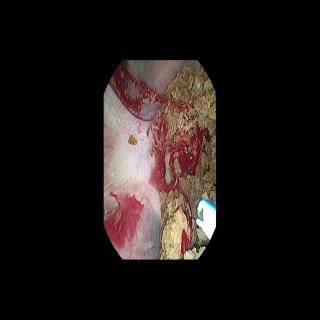stone: (163, 66, 215, 258), (160, 192, 190, 258), (165, 153, 172, 184), (173, 159, 181, 176), (127, 134, 137, 144)
tissue: (105, 64, 172, 257)
